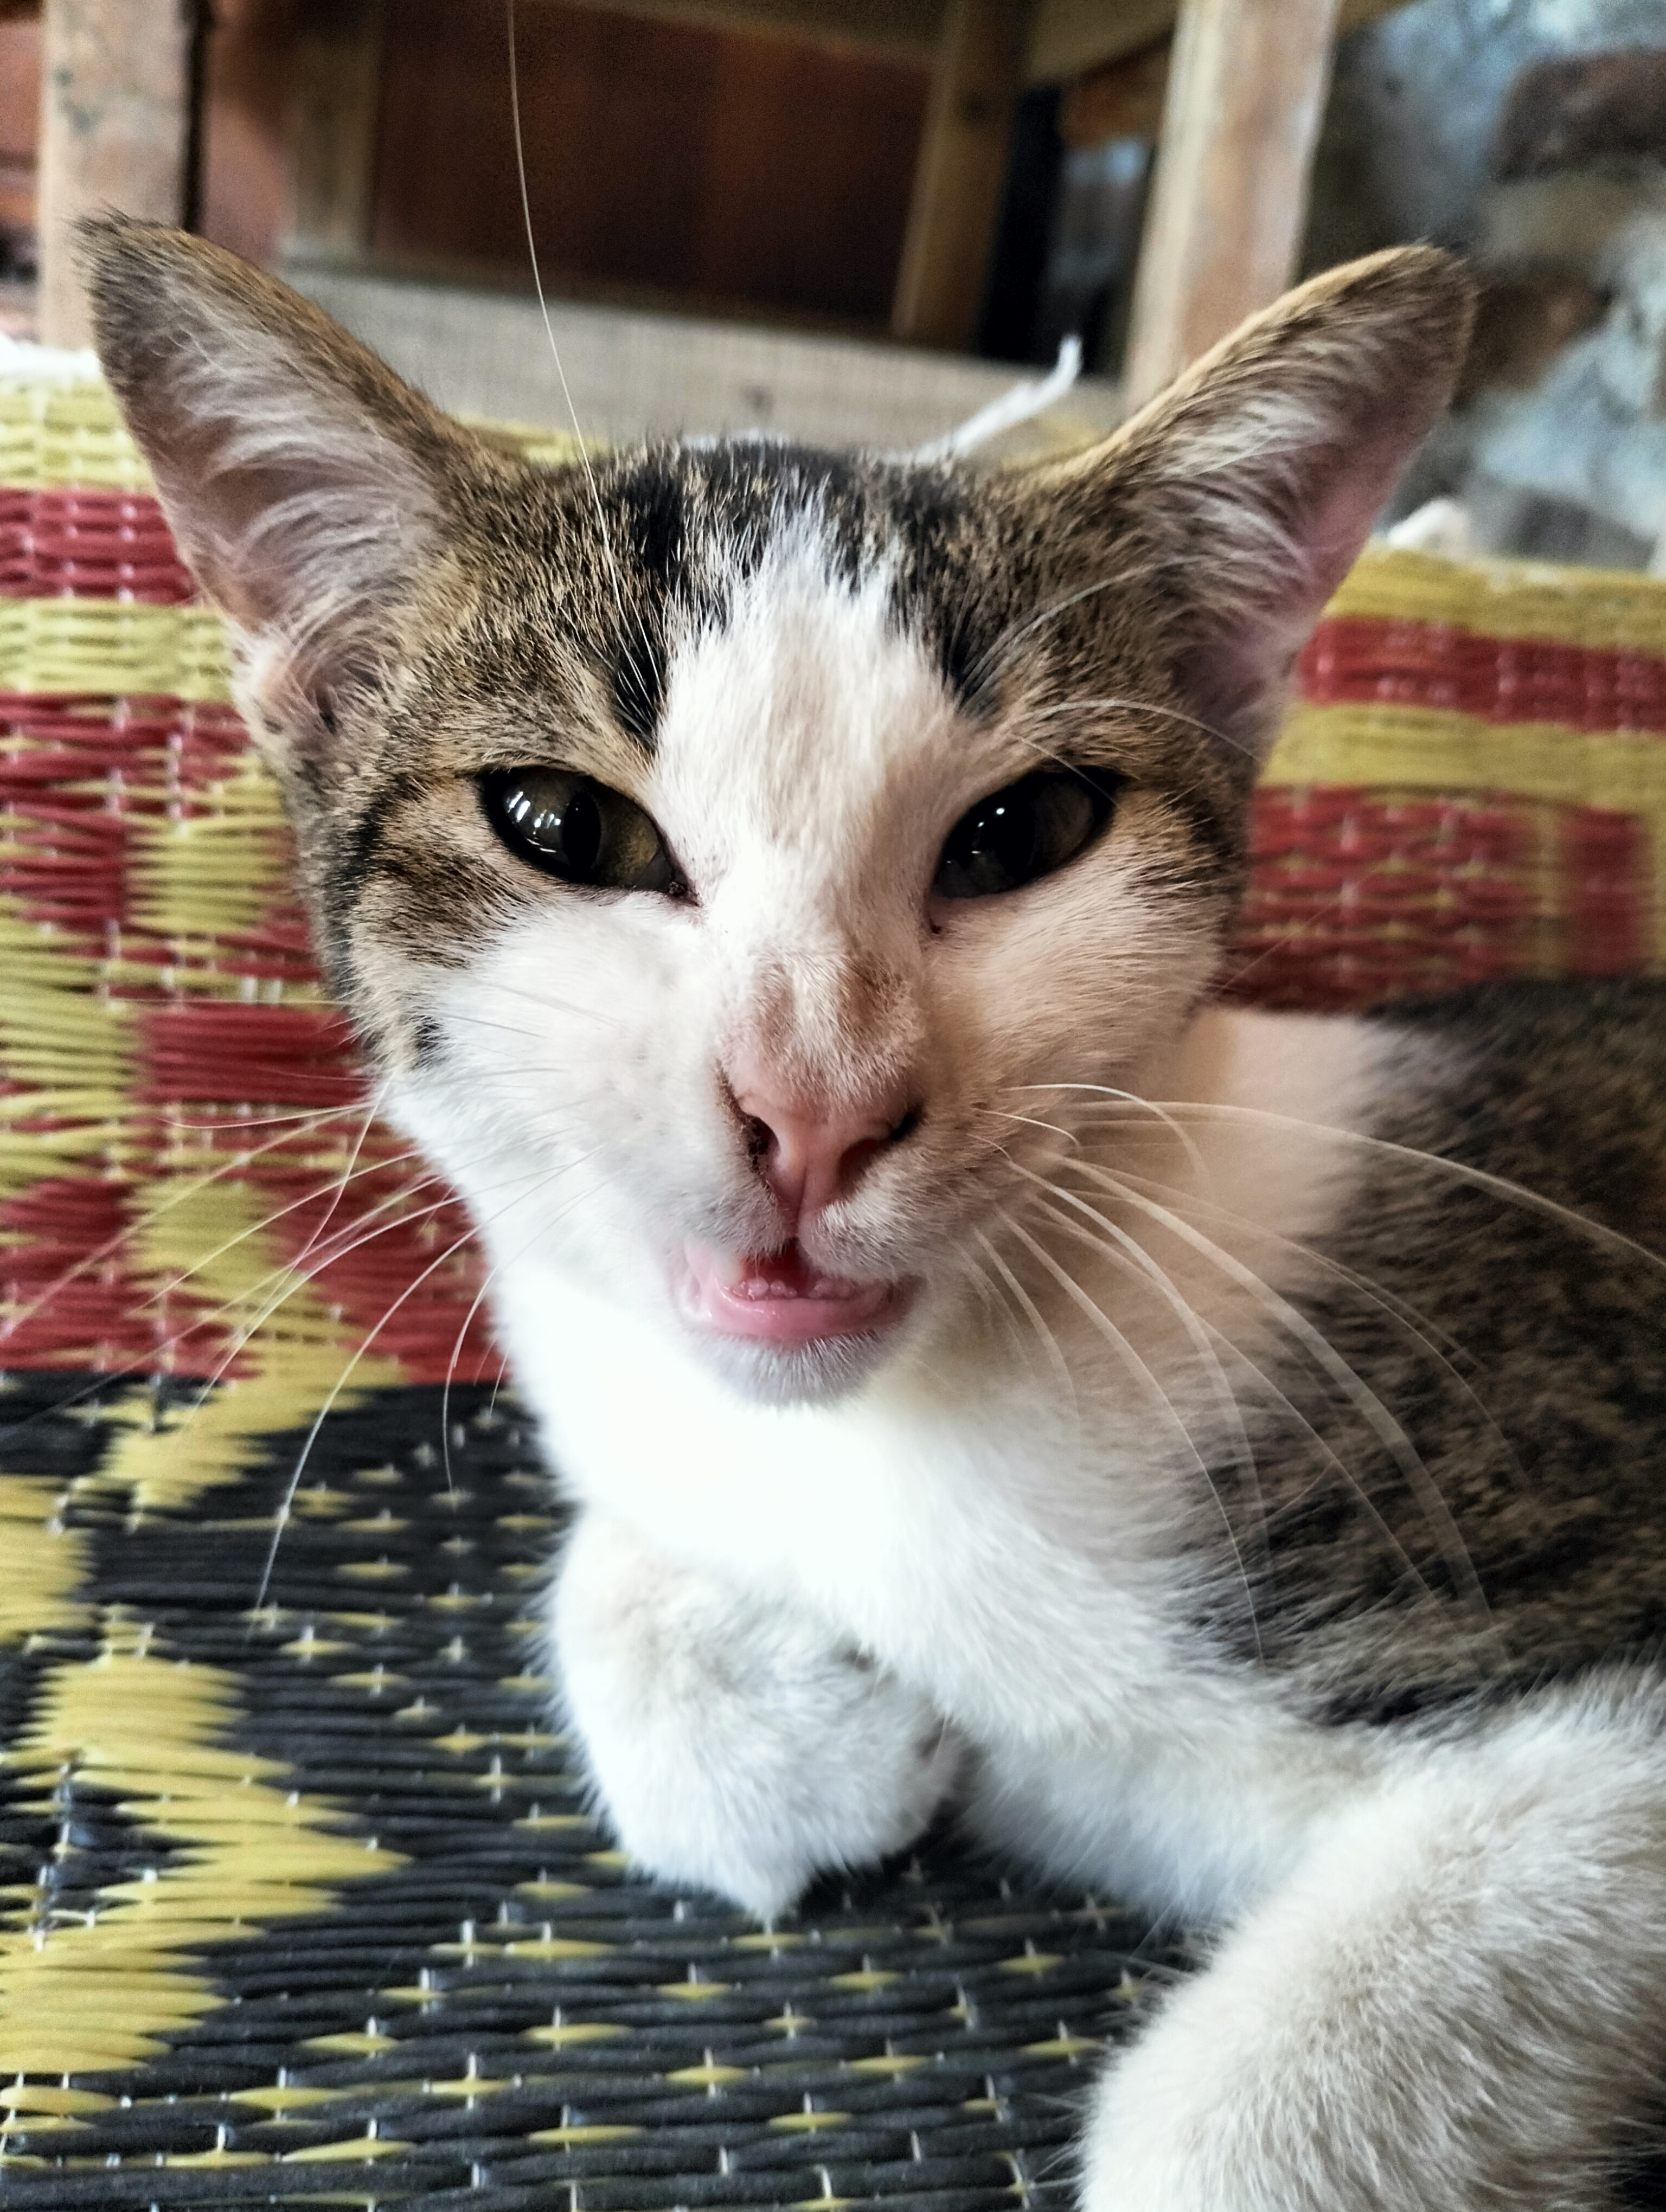miki: (42, 166, 1566, 1521)
